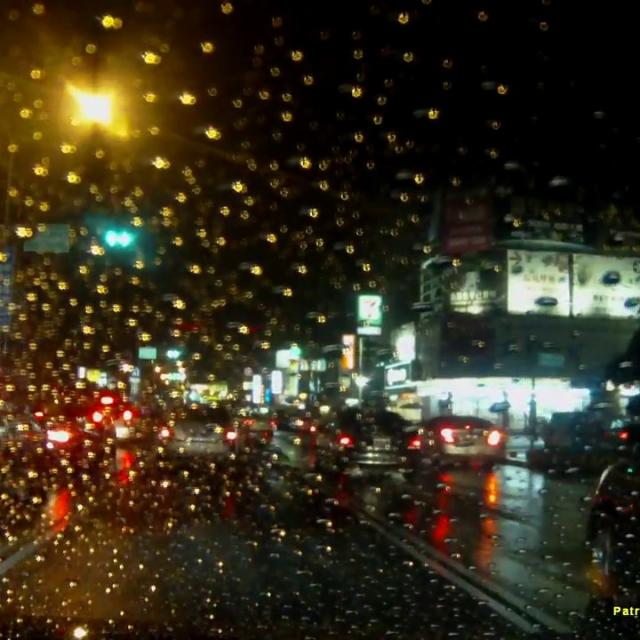Car: (0, 329, 116, 521), (312, 405, 419, 475), (156, 403, 239, 464), (418, 414, 506, 471), (98, 389, 154, 443), (230, 400, 277, 440)
